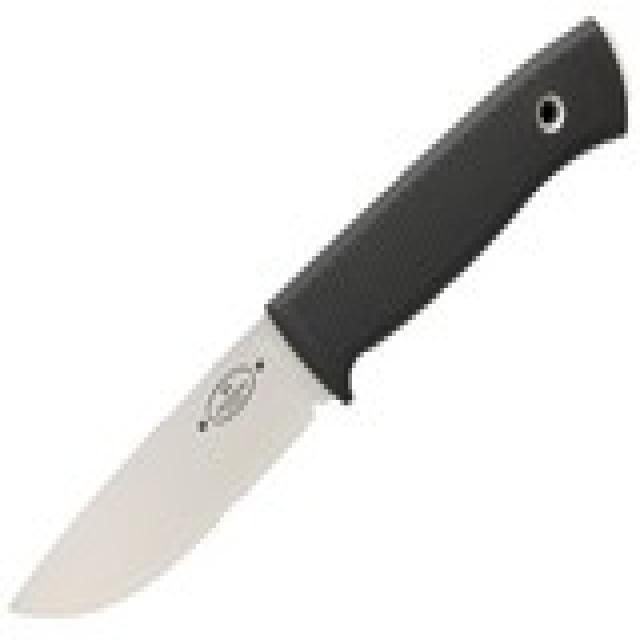Knife: (2, 10, 630, 625)
